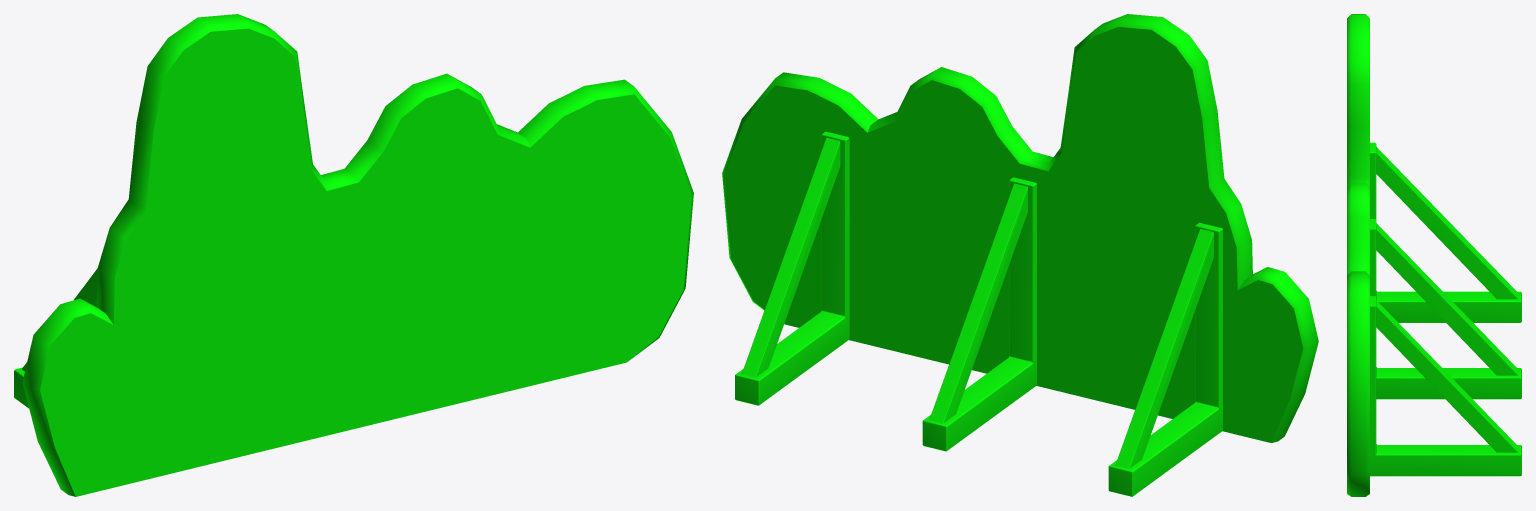
File: Cardboard_Bush_Low - Copy.fbx
The picture shows the model from 3 angles, left to right: view 1: azimuth 30°, elevation 25°; view 2: azimuth 150°, elevation 25°; view 3: azimuth 270°, elevation 25°; orthographic projection. The views are drawn at different scales.
Visible parts, largest first — view 1: Standup_Bush_low; view 2: Standup_Bush_low; view 3: Standup_Bush_low.
Part boxes in pixels (x1,y1,x2,y2): Standup_Bush_low: (14,14,693,496); Standup_Bush_low: (722,14,1318,496); Standup_Bush_low: (1347,14,1521,496).
Size of the model in its own units: 235 by 149 by 71.97.
